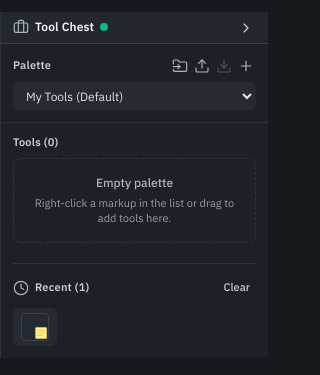
Test case: ToolChestPanel (Panel Lateral de Tool Chest B.4) › permite limpiar el historial de herramientas recientes
Click the button with test id "clear-recent-tools-btn".
click(237, 288)  # box x1=218 y1=276 x2=256 y2=300
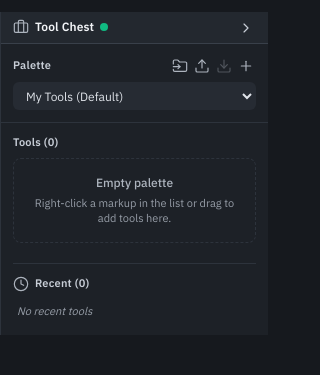
Expected: the button with test id "clear-recent-tools-btn" is gone
Expected: the text "No recent tools" is shown, x1=17 y1=304 x2=92 y2=318
